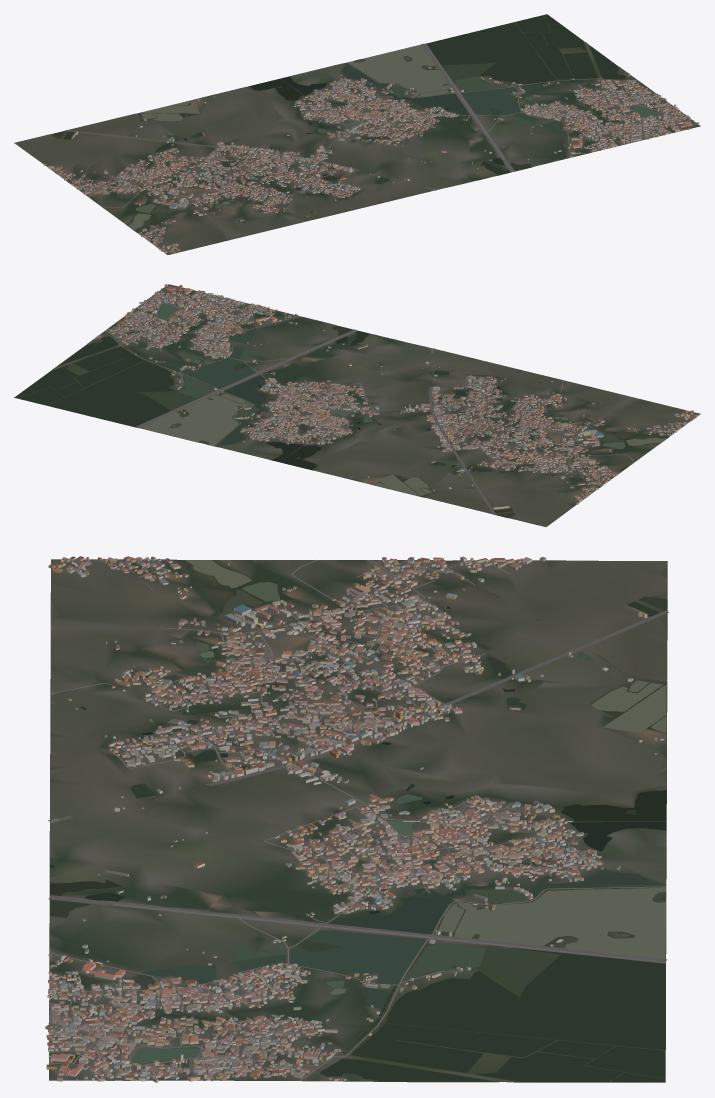
The picture shows the model from 3 angles, top to bottom: view 1: azimuth 30°, elevation 25°; view 2: azimuth 150°, elevation 25°; view 3: azimuth 270°, elevation 25°; orthographic projection. The views are drawn at different scales.
Parts seen in each view (by area): view 1: ground, buildings, water, roads; view 2: ground, buildings, water, roads; view 3: ground, buildings, water, roads.
Boxes of the visible parts, left/top/right/bottom form: ground: left=14, top=15, right=700, bottom=254; buildings: left=44, top=67, right=699, bottom=253; water: left=53, top=14, right=660, bottom=231; roads: left=59, top=43, right=685, bottom=247; ground: left=14, top=284, right=700, bottom=526; buildings: left=95, top=284, right=698, bottom=509; water: left=14, top=304, right=668, bottom=517; roads: left=105, top=288, right=690, bottom=514; ground: left=49, top=559, right=667, bottom=1082; buildings: left=45, top=556, right=664, bottom=1082; water: left=50, top=560, right=666, bottom=1081; roads: left=48, top=559, right=668, bottom=1080.
Size of the model in its own units: 2814 by 26.97 by 1419.
